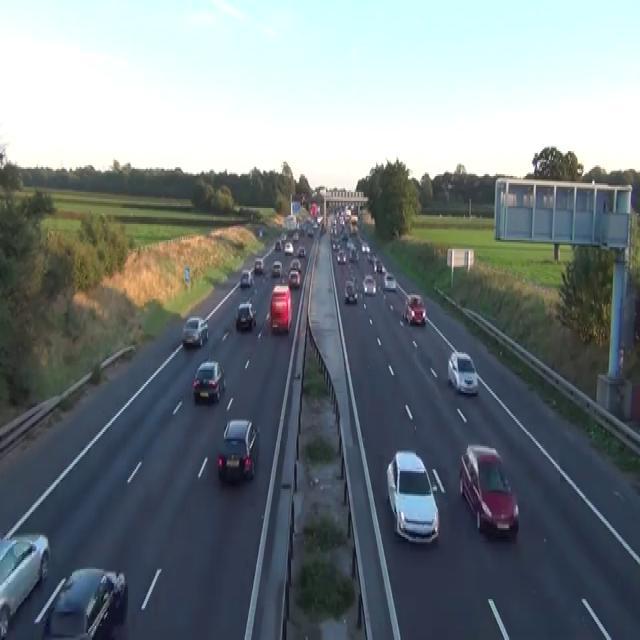Car: (41, 566, 127, 638), (459, 444, 519, 538), (0, 532, 50, 638), (386, 450, 439, 544), (217, 418, 259, 483), (192, 359, 225, 404), (447, 350, 478, 395), (181, 314, 208, 346), (403, 294, 426, 326), (235, 300, 256, 330), (344, 279, 357, 302), (362, 274, 376, 295), (239, 268, 253, 286), (288, 268, 300, 288), (383, 272, 396, 290), (271, 260, 282, 278), (254, 258, 264, 274), (290, 258, 301, 272), (374, 260, 385, 274), (336, 249, 346, 263), (284, 242, 293, 254), (349, 249, 358, 261), (297, 245, 306, 256), (331, 240, 340, 251), (346, 240, 355, 251), (361, 242, 370, 252), (350, 213, 358, 224), (298, 222, 306, 233), (300, 192, 307, 204), (367, 251, 374, 261), (275, 240, 281, 251), (316, 215, 323, 224), (280, 231, 287, 240), (350, 224, 357, 233), (307, 226, 313, 236), (292, 231, 298, 240), (341, 231, 347, 240), (312, 222, 318, 230), (259, 228, 262, 236)
Truck: (269, 284, 292, 334)
